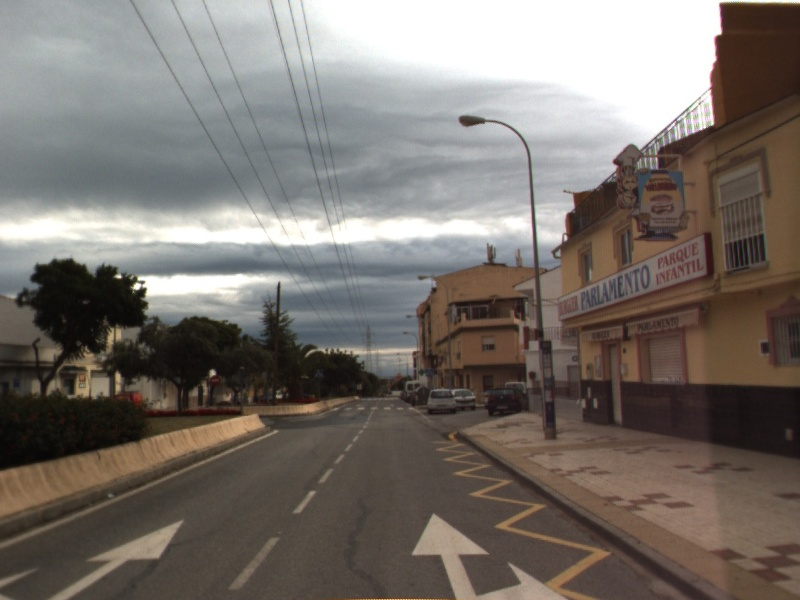STRAIGHT: (42, 516, 188, 600)
STRAIGHT_RIGHT: (406, 508, 572, 600)
